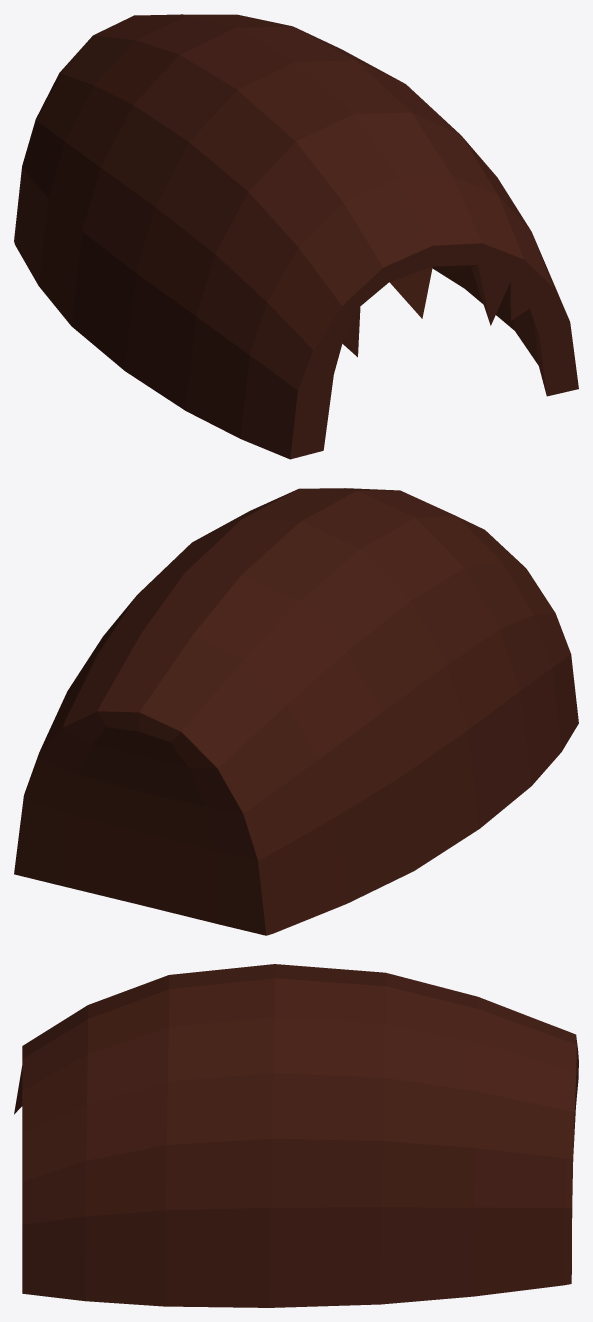
Rendered from cave.fbx.
The picture shows the model from 3 angles, top to bottom: view 1: azimuth 30°, elevation 25°; view 2: azimuth 150°, elevation 25°; view 3: azimuth 270°, elevation 25°; orthographic projection. The views are drawn at different scales.
Parts seen in each view (by area): view 1: Cube.004; view 2: Cube.004; view 3: Cube.004.
Part boxes in pixels (x1,y1,x2,y2): Cube.004: (14, 14, 578, 459); Cube.004: (14, 488, 578, 935); Cube.004: (14, 964, 578, 1307).
Size of the model in its own units: 8.37 by 12.36 by 5.99.
